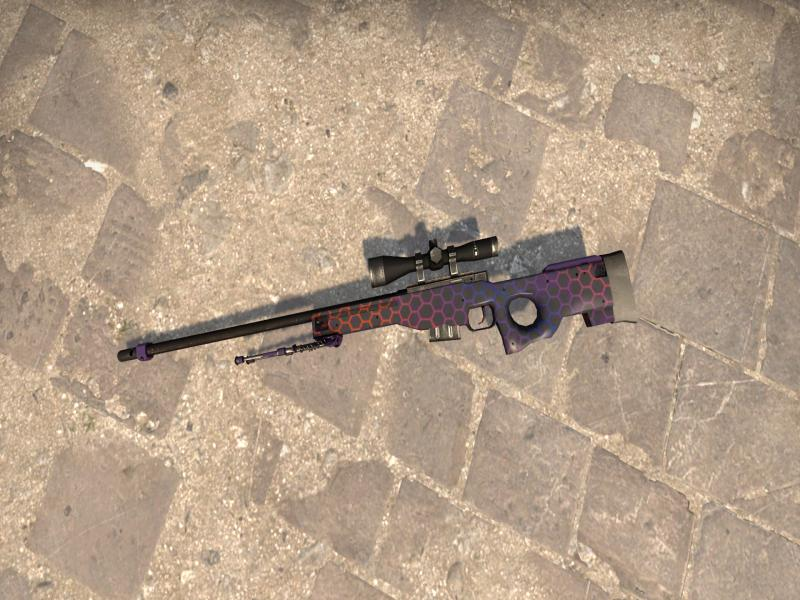AWP: (89, 193, 659, 393)
